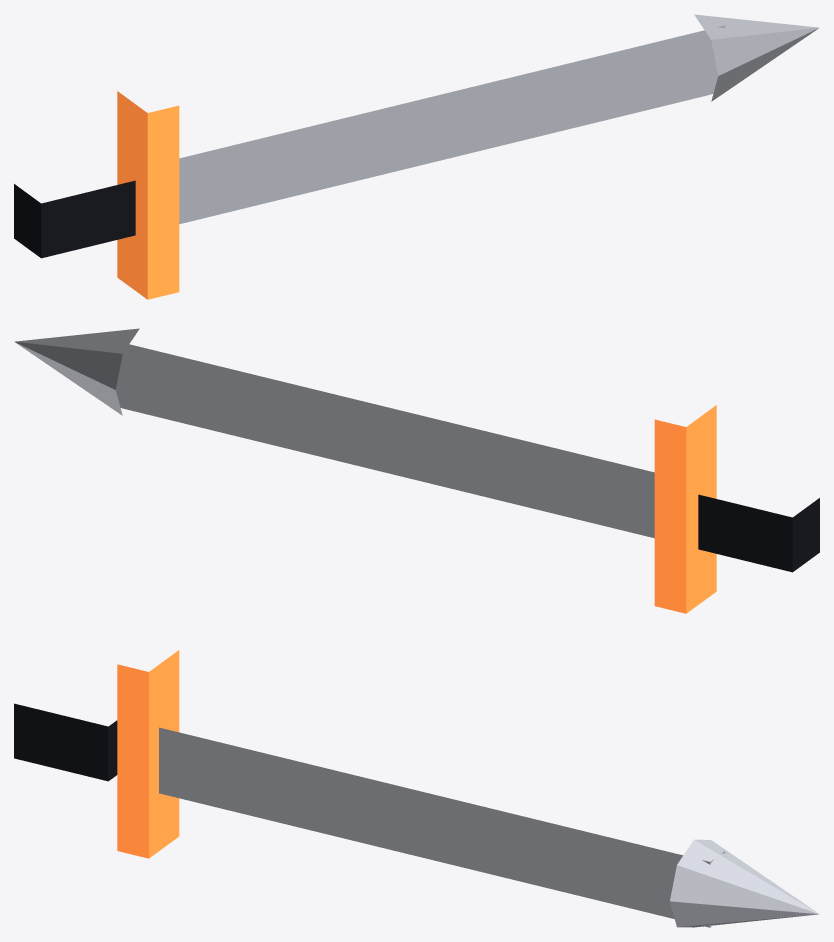
The model's file is sven.glb.
3 renders of one model, top to bottom at view 1: azimuth 30°, elevation 25°; view 2: azimuth 150°, elevation 25°; view 3: azimuth 330°, elevation 25°, orthographic.
Visible parts, largest first — view 1: sven-blade, sven-guard, sven-grip, sven-tip; view 2: sven-blade, sven-guard, sven-grip, sven-tip; view 3: sven-blade, sven-guard, sven-tip, sven-grip.
Part boxes in pixels (x1,y1,x2,y2): sven-blade: [179, 25, 725, 224]; sven-guard: [117, 91, 179, 299]; sven-grip: [14, 180, 135, 258]; sven-tip: [694, 14, 819, 101]; sven-blade: [108, 339, 654, 538]; sven-guard: [654, 405, 716, 613]; sven-grip: [698, 494, 819, 572]; sven-tip: [14, 328, 139, 415]; sven-blade: [159, 727, 725, 927]; sven-guard: [117, 650, 179, 858]; sven-tip: [670, 839, 819, 927]; sven-grip: [14, 703, 117, 781].
Size of the model in its own units: 1.51 by 0.34 by 0.16.
